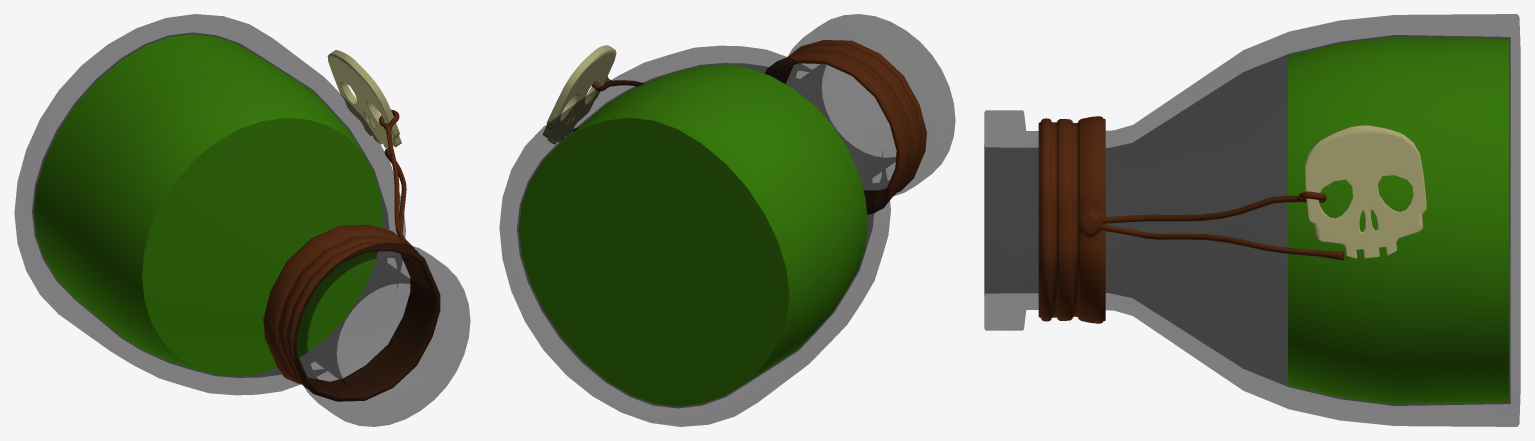
The model's file is SkullBottle.obj.
The picture shows the model from 3 angles, left to right: view 1: azimuth 30°, elevation 25°; view 2: azimuth 150°, elevation 25°; view 3: azimuth 270°, elevation 25°; orthographic projection. The views are drawn at different scales.
Visible parts, largest first — view 1: Flasche_mit_allem; view 2: Flasche_mit_allem; view 3: Flasche_mit_allem.
Boxes of the visible parts, x1,y1,x2,y2 form: Flasche_mit_allem: (14,14,470,426); Flasche_mit_allem: (499,14,955,426); Flasche_mit_allem: (984,14,1520,426).
Bounding box in the file's own units: 2.3 × 2.26 × 2.93.
